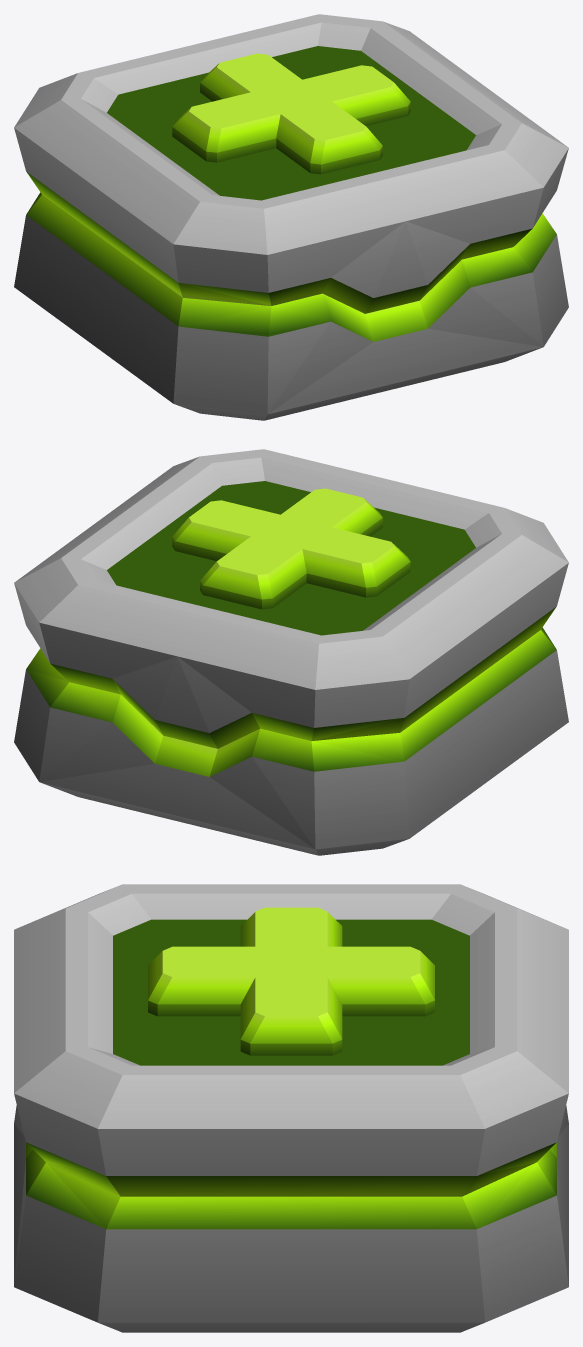
The model's file is repair_item.fbx.
3 renders of one model, top to bottom at view 1: azimuth 30°, elevation 25°; view 2: azimuth 150°, elevation 25°; view 3: azimuth 270°, elevation 25°, orthographic. The views are drawn at different scales.
Visible parts, largest first — view 1: repair_item; view 2: repair_item; view 3: repair_item.
Part boxes in pixels (x1,y1,x2,y2): repair_item: (14, 14, 568, 420); repair_item: (14, 449, 568, 855); repair_item: (14, 884, 568, 1332).
Size of the model in its own units: 86.51 by 47.36 by 86.51.
